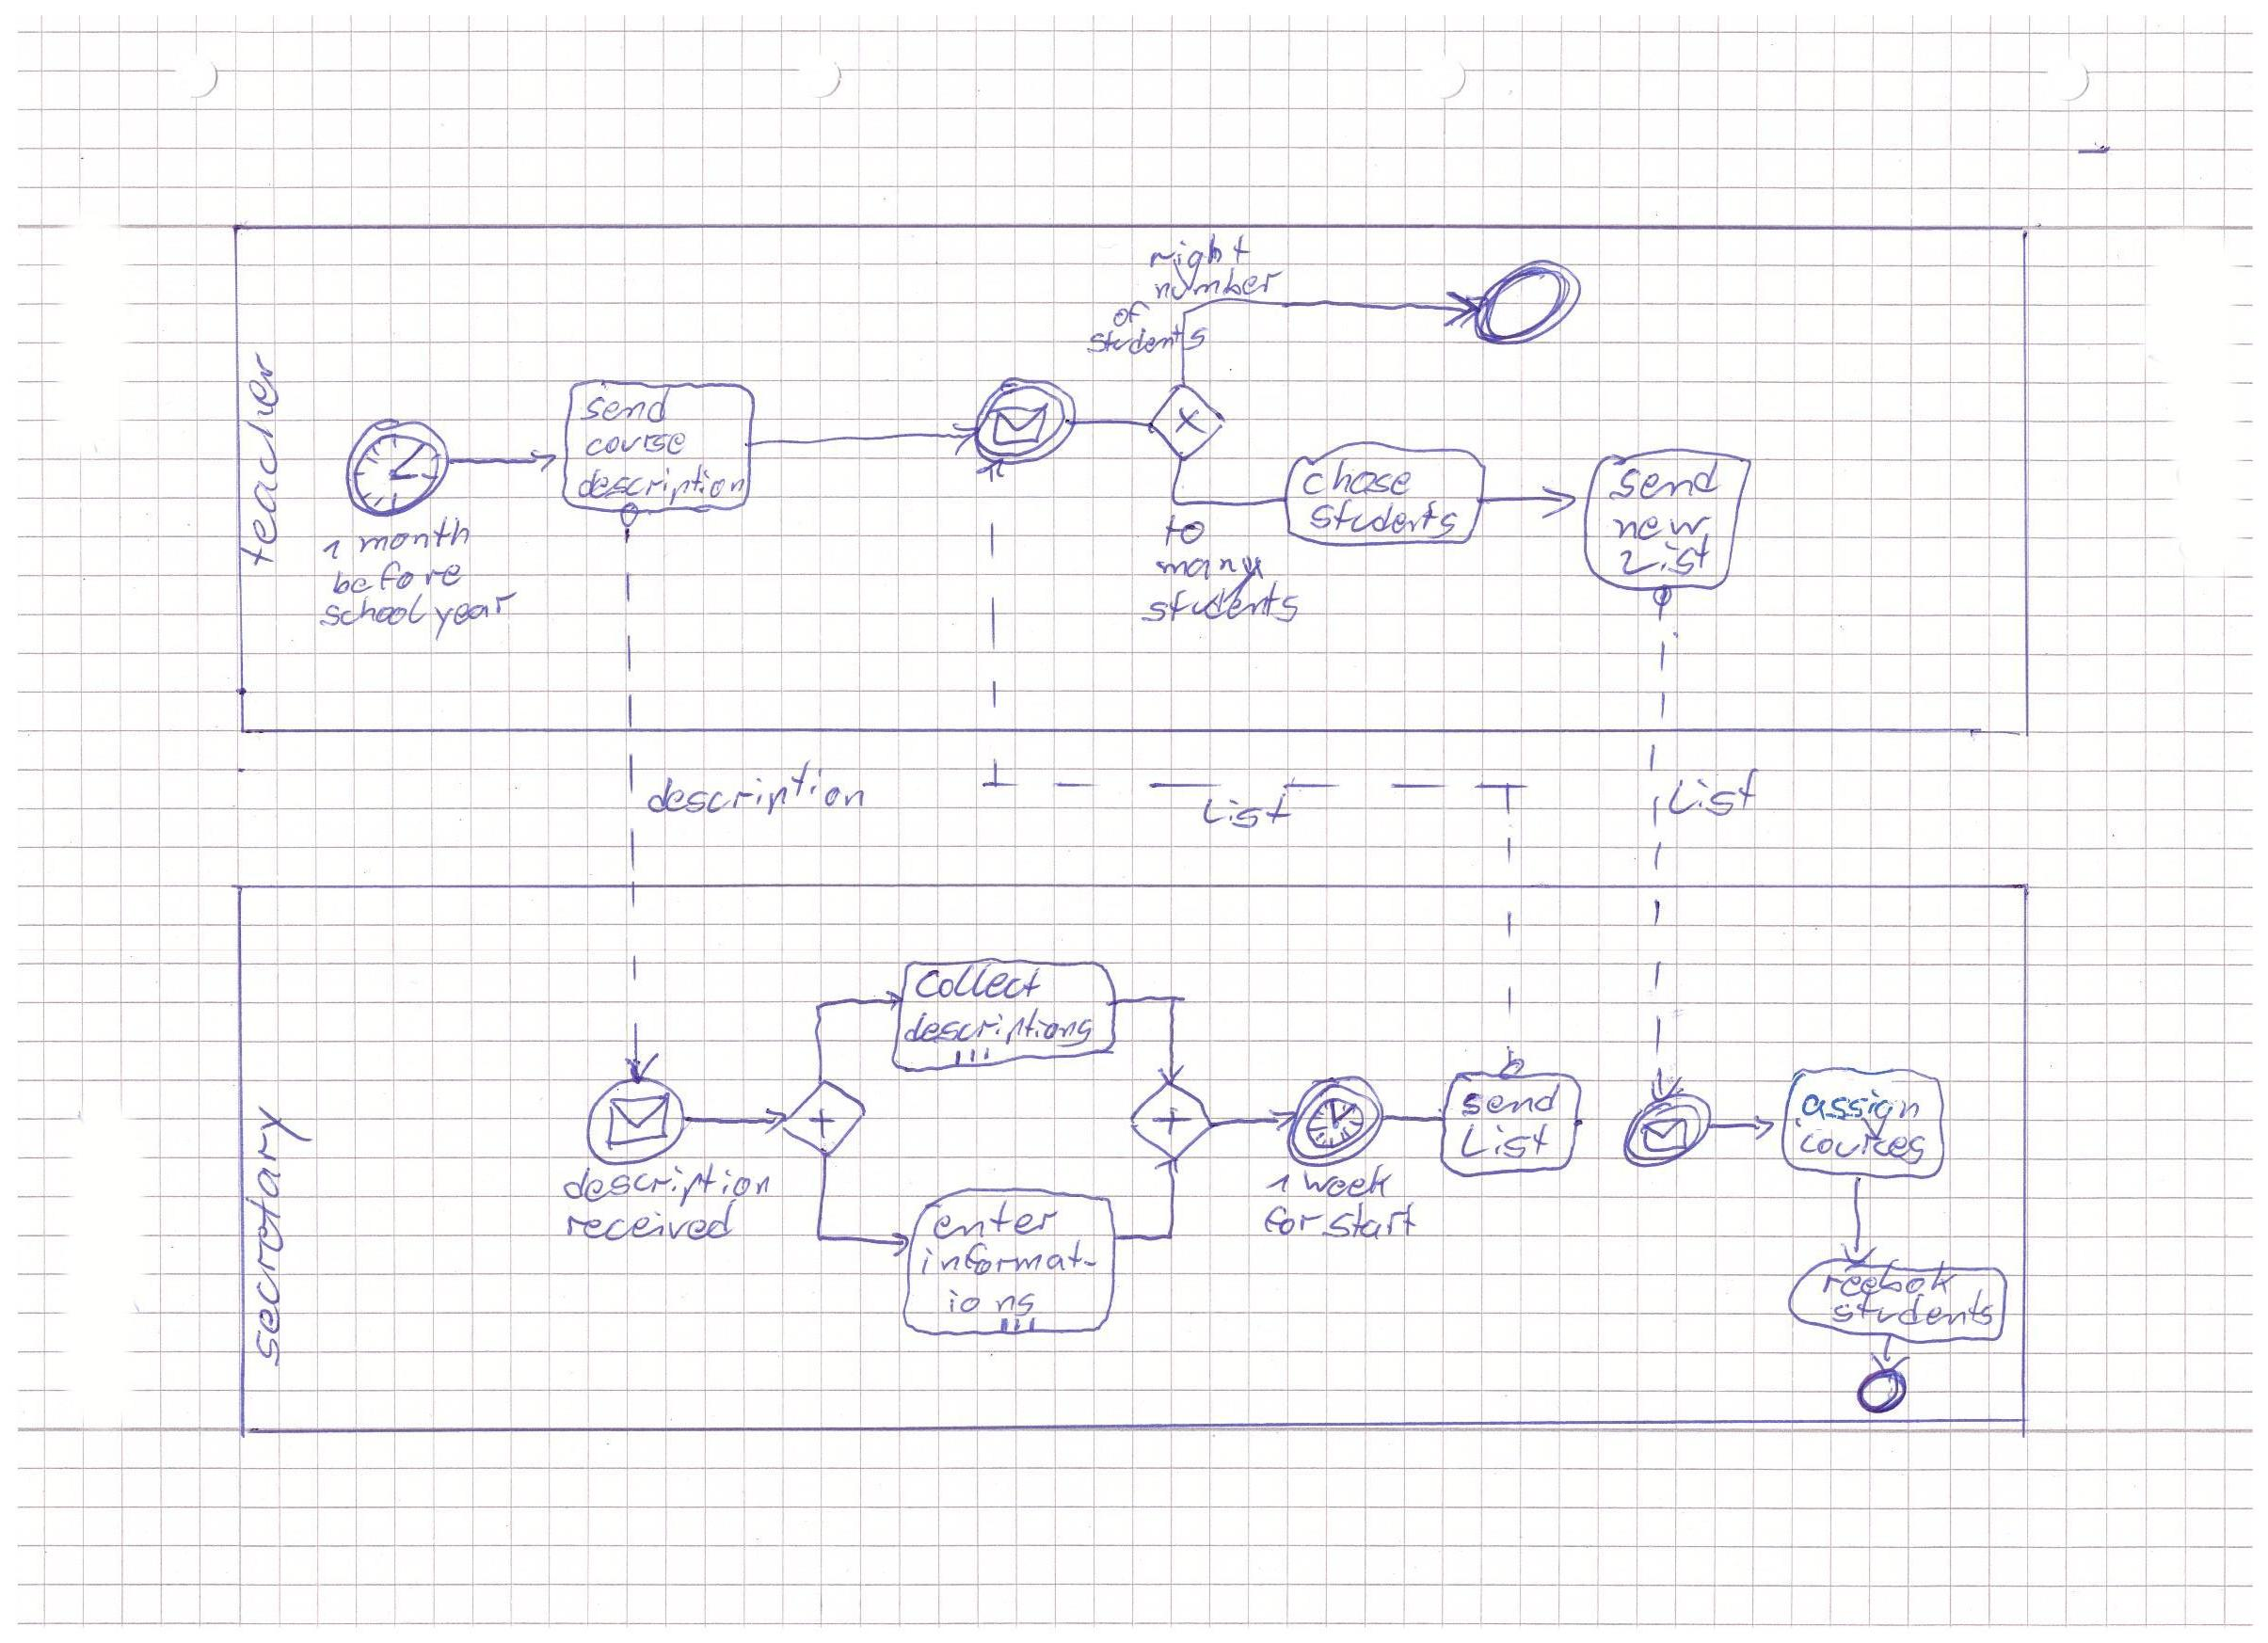1: (1265, 1173, 1289, 1197), (321, 537, 342, 566)
III: (950, 1045, 994, 1069), (998, 1315, 1042, 1337)
List: (1667, 768, 1761, 816), (1614, 535, 1709, 575)
assign: (1799, 1090, 1920, 1136)
before: (333, 559, 460, 596)
chose: (1299, 458, 1409, 496)
collect: (911, 963, 1042, 1003)
cources: (1797, 1131, 1925, 1168)
course: (582, 430, 686, 456)
description: (648, 760, 863, 812), (558, 1164, 771, 1206), (578, 465, 747, 500)
descriptions: (899, 1012, 1091, 1045)
enter: (932, 1201, 1056, 1240)
for: (1260, 1203, 1323, 1235)
informat-: (917, 1241, 1100, 1273)
ions: (944, 1279, 1048, 1315)
list: (1456, 1117, 1549, 1156), (1201, 795, 1294, 828)
many: (1151, 557, 1266, 582)
month: (351, 517, 470, 551)
new: (1610, 511, 1711, 538)
number: (1155, 269, 1282, 300)
of: (1113, 296, 1149, 327)
received: (563, 1200, 739, 1239)
reebok: (1818, 1256, 1954, 1295)
right: (1146, 235, 1247, 282)
school: (320, 593, 423, 625)
secretary: (243, 1107, 310, 1364)
send: (1604, 460, 1720, 498), (1459, 1083, 1563, 1119), (580, 388, 668, 423)
start: (1322, 1202, 1415, 1239)
students: (1141, 583, 1302, 623), (1311, 501, 1455, 542), (1831, 1294, 1994, 1329), (1084, 326, 1204, 355)
teacher: (238, 353, 279, 569)
to: (1162, 512, 1203, 545)
week: (1301, 1162, 1394, 1198)
year: (430, 591, 517, 643)
